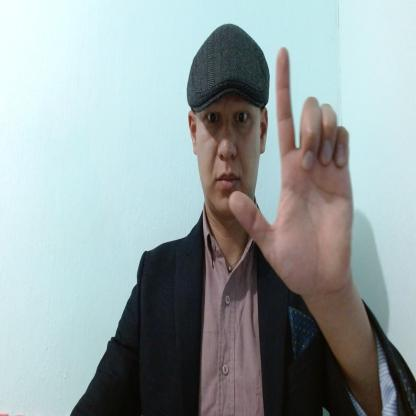L: (230, 47, 353, 297)
